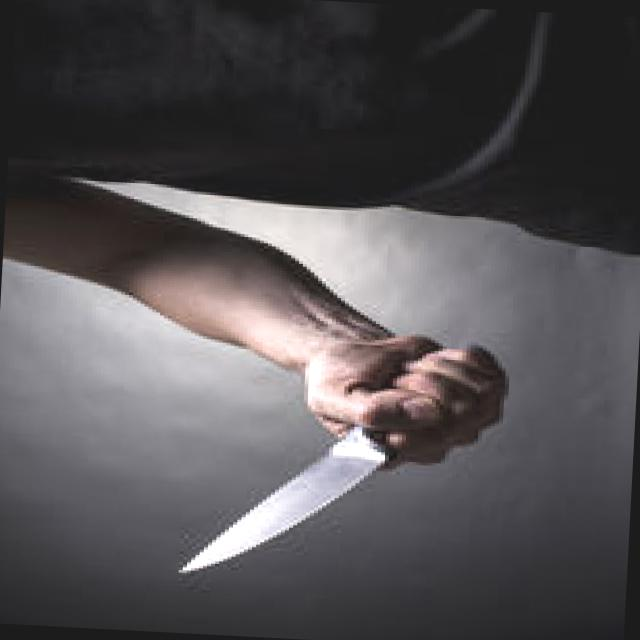knife: (158, 373, 516, 605)
